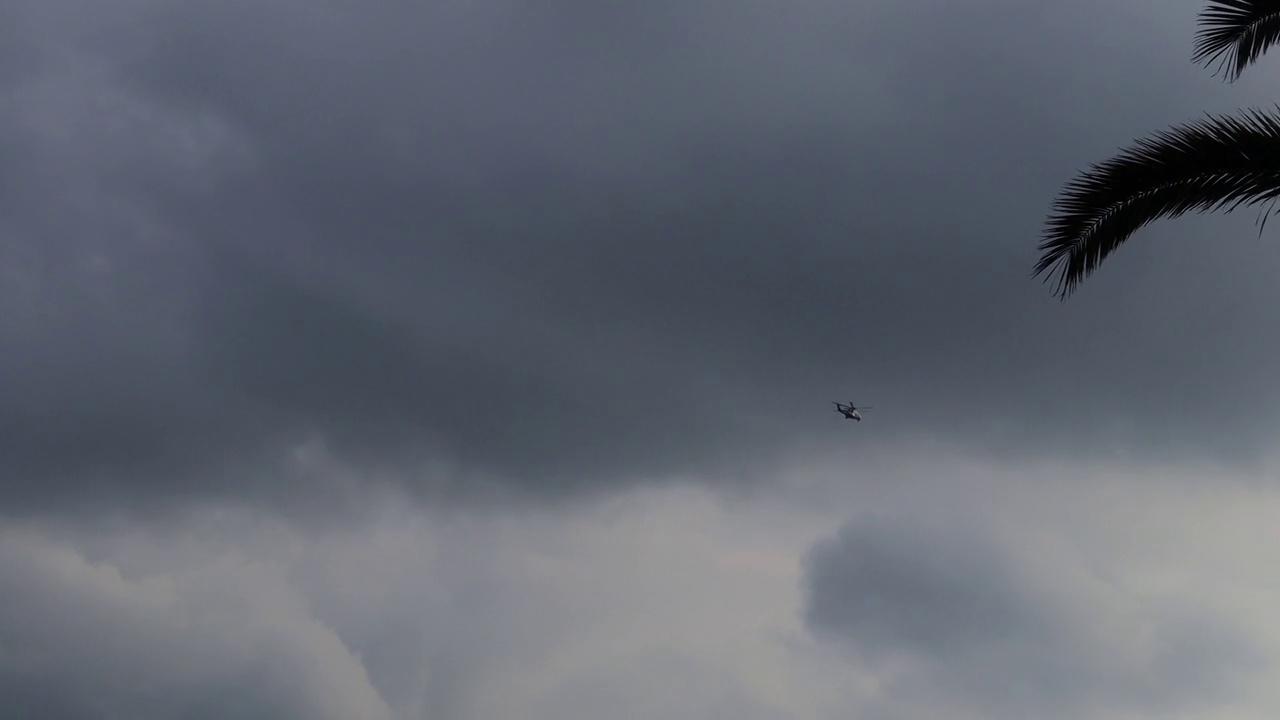heli: (831, 399, 874, 421)
